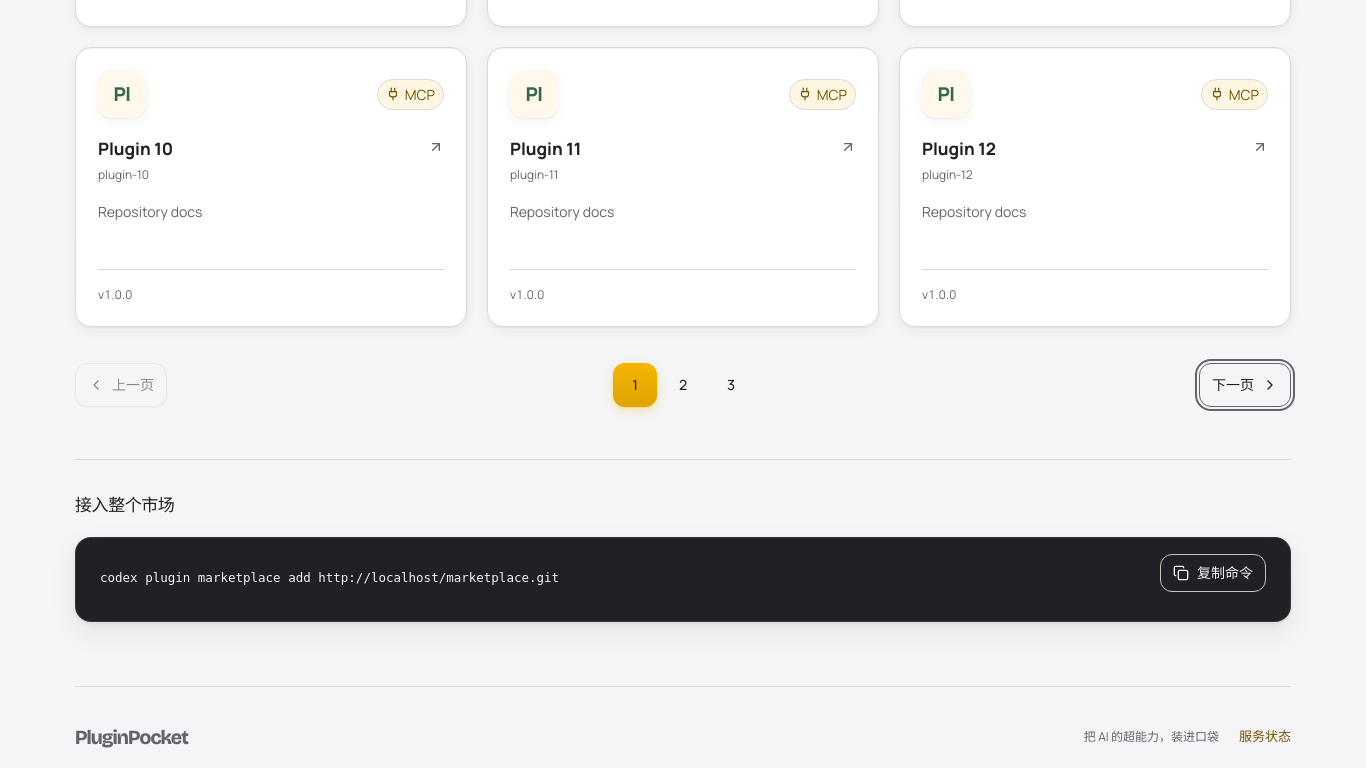
Test: paginates the catalog with keyboard controls and shareable page URLs
(page scrolled)
Expected: the button "上一页" is disabled, 75,362 -> 167,406
Press Enter
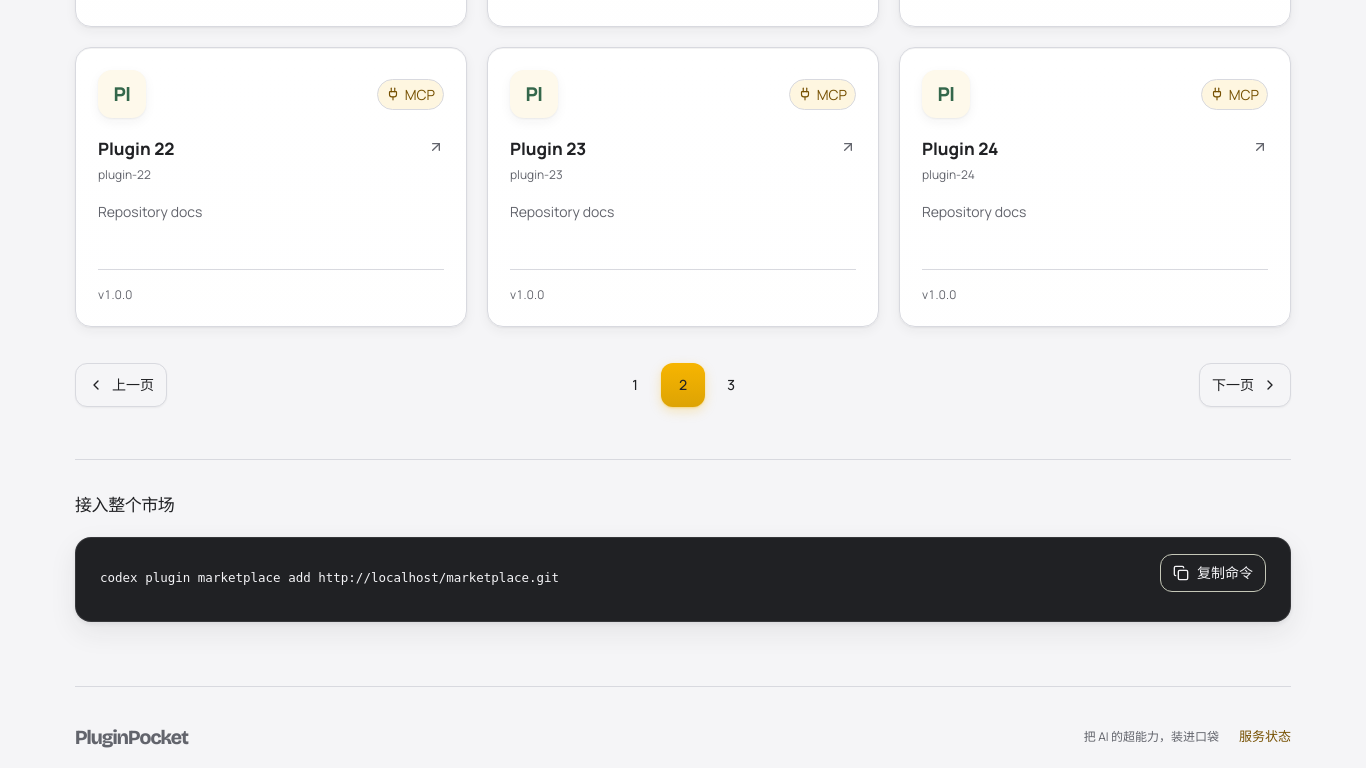
Click the button named "第 3 页": (731, 384) 709,362 -> 753,406
(page scrolled)
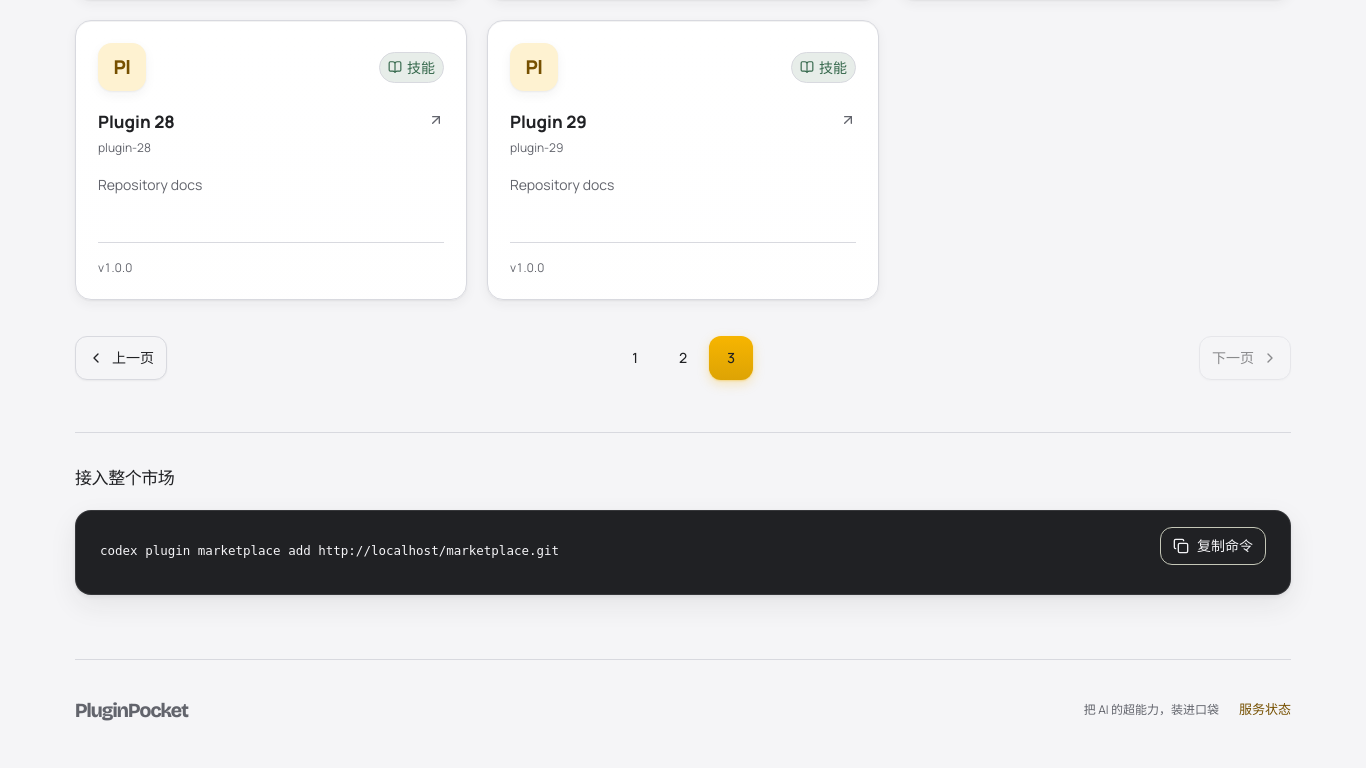
Expected: the link "Plugin 29" is shown, 510,109 -> 856,134
Expected: the button "下一页" is disabled, 1199,336 -> 1291,380
